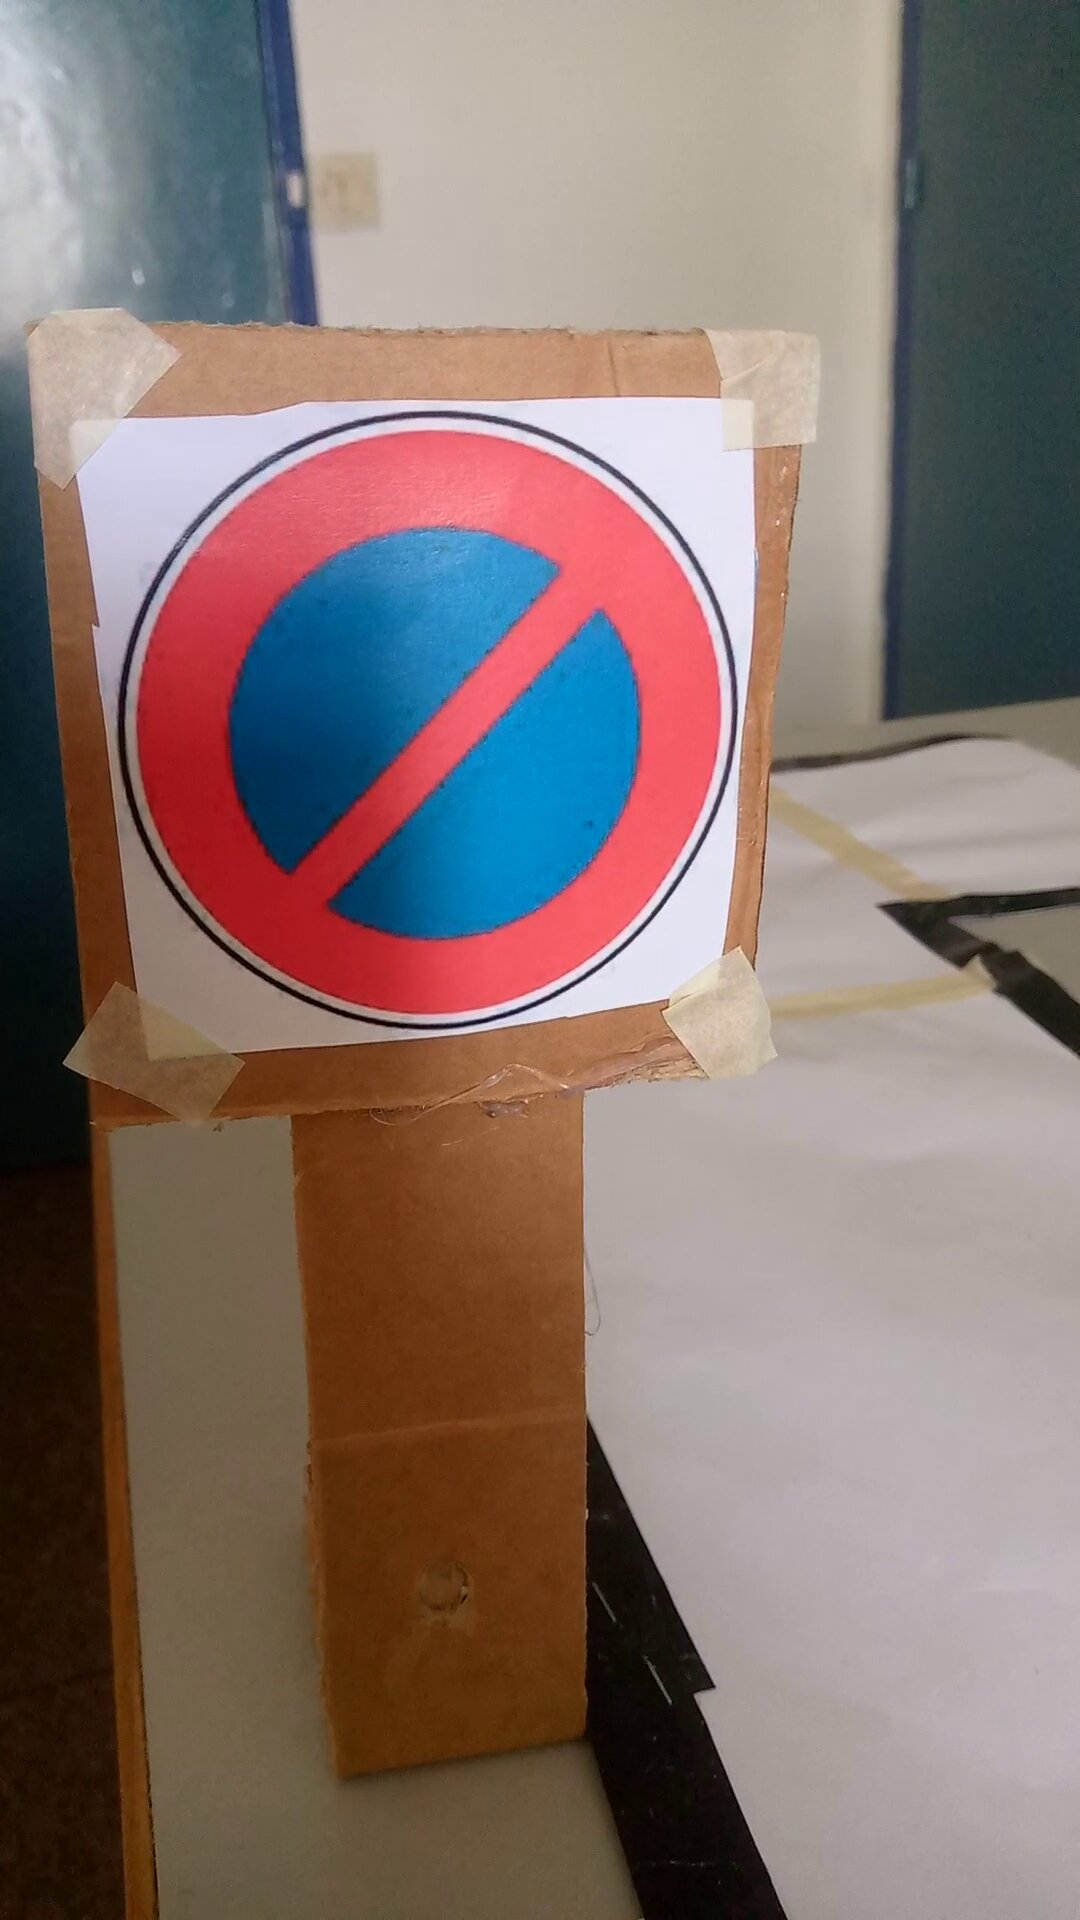panel110: (70, 397, 753, 1058)
